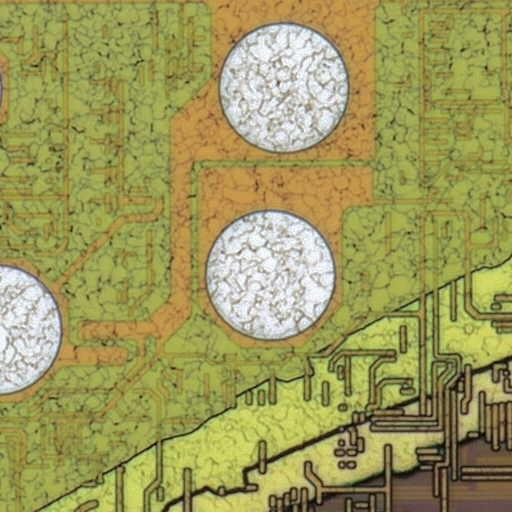COATING BAD: (27, 249, 512, 512)
